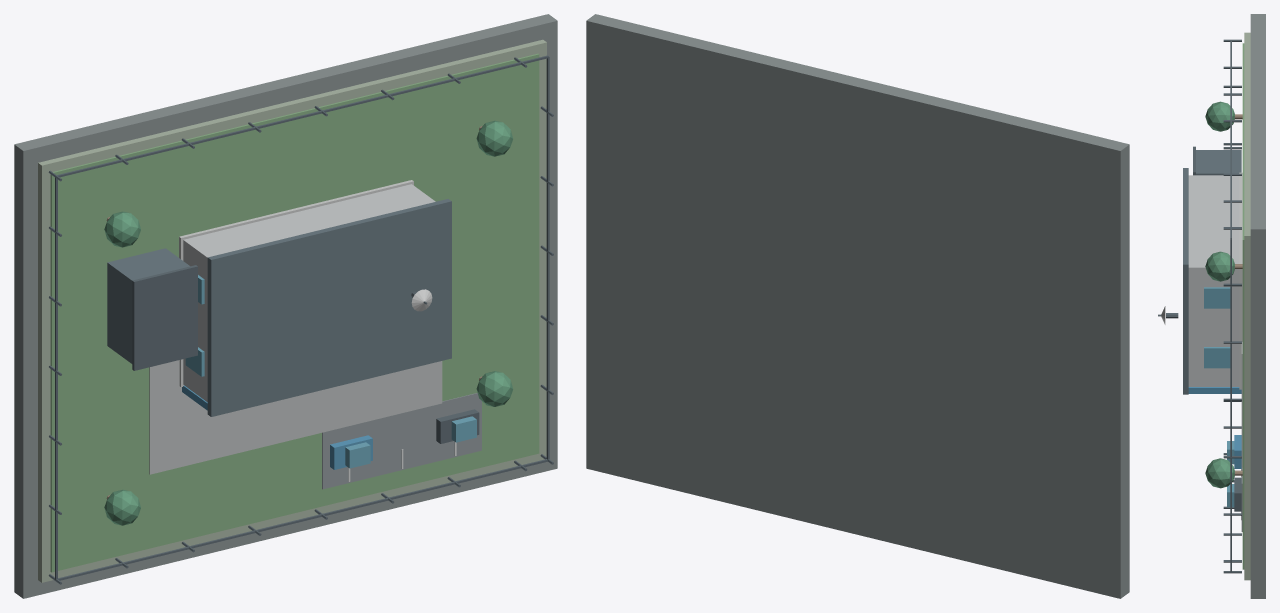
File: scouting_office_level_1.glb
3 renders of one model, left to right at view 1: azimuth 30°, elevation 25°; view 2: azimuth 150°, elevation 25°; view 3: azimuth 270°, elevation 25°, orthographic. The views are drawn at different scales.
Parts seen in each view (by area): view 1: component_0002, component_0043, component_0000, component_0001, component_0035, component_0041, component_0066, component_0065, component_0064, component_0032, component_0031, component_0034 (+6 smaller); view 2: component_0000; view 3: component_0000, component_0041, component_0001, component_0002, component_0043, component_0064, component_0042, component_0089, component_0085, component_0034, component_0087, component_0057 (+6 smaller).
Part boxes in pixels (<box>): component_0002: <box>50,53,539,572</box>; component_0043: <box>207,199,451,416</box>; component_0000: <box>14,14,557,598</box>; component_0001: <box>38,39,546,582</box>; component_0035: <box>149,360,442,474</box>; component_0041: <box>183,184,435,401</box>; component_0066: <box>322,393,481,489</box>; component_0065: <box>132,265,197,370</box>; component_0064: <box>107,248,189,363</box>; component_0032: <box>57,55,548,177</box>; component_0031: <box>58,459,547,580</box>; component_0034: <box>546,56,549,459</box>; component_0000: <box>586,14,1129,598</box>; component_0000: <box>1250,14,1265,598</box>; component_0041: <box>1188,175,1239,386</box>; component_0001: <box>1244,32,1250,580</box>; component_0002: <box>1242,43,1244,569</box>; component_0043: <box>1183,168,1188,394</box>; component_0064: <box>1196,150,1241,175</box>; component_0042: <box>1239,172,1242,389</box>; component_0089: <box>1205,251,1234,281</box>; component_0085: <box>1205,458,1234,488</box>; component_0034: <box>1230,239,1231,571</box>; component_0087: <box>1205,101,1234,131</box>; component_0057: <box>1204,287,1230,308</box>.
Bounding box in the file's own units: 20.1 × 16.1 × 4.25.
